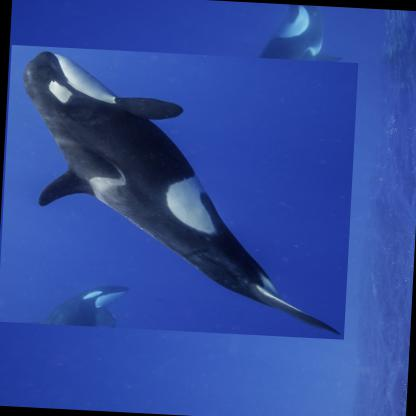killer_whale: (0, 44, 358, 341)
